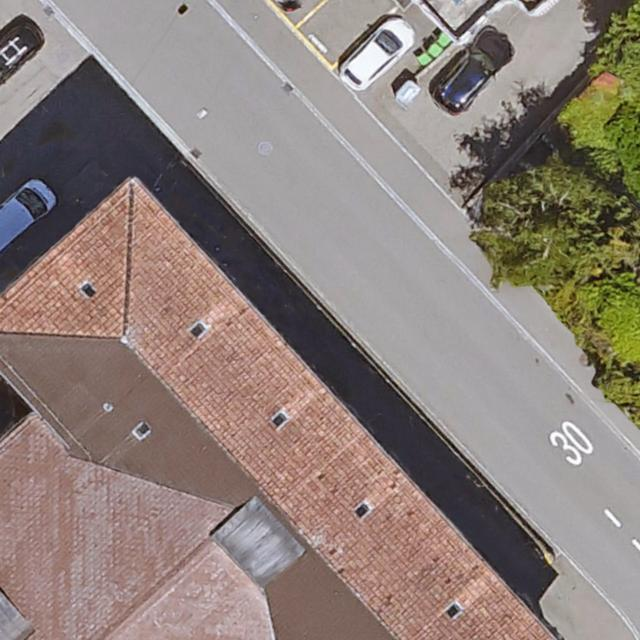tree: (480, 162, 618, 292), (598, 0, 640, 106)
